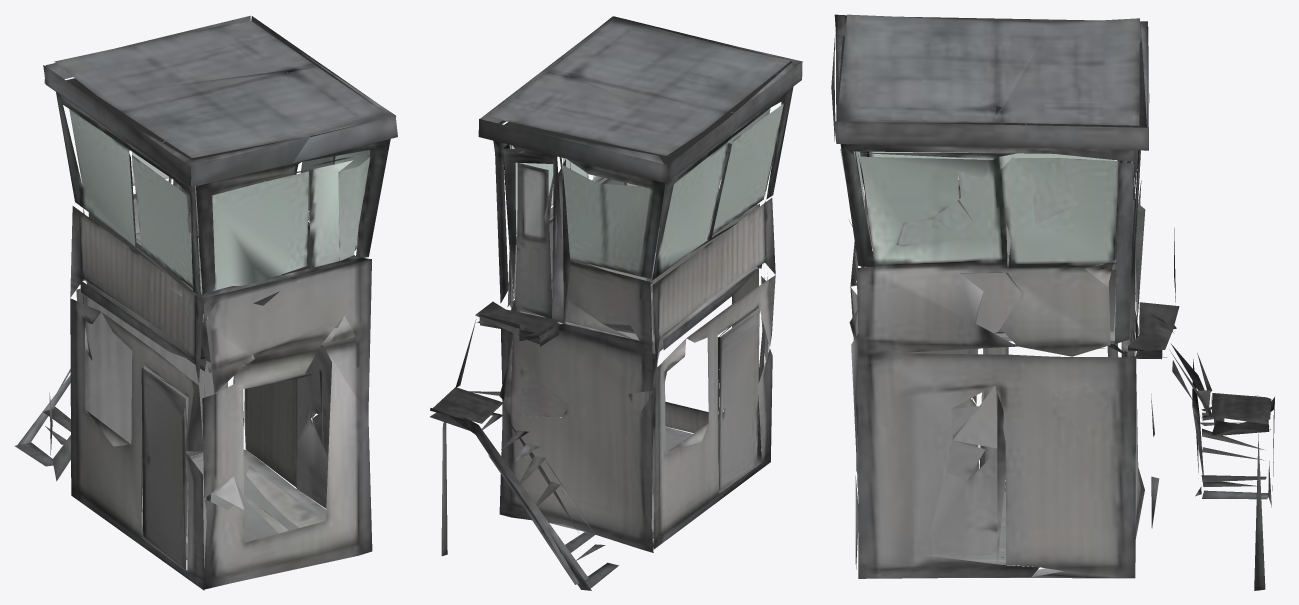
File: kueste_zeitnahme_lo.glb
3 views of the same model, side by side, from view 1: azimuth 30°, elevation 25°; view 2: azimuth 150°, elevation 25°; view 3: azimuth 270°, elevation 25° (orthographic). The views are drawn at different scales.
Visible parts, largest first — view 1: Prop; view 2: Prop; view 3: Prop.
Part boxes in pixels (x1=…): Prop: x1=15, y1=15, x2=397, y2=590; Prop: x1=430, y1=16, x2=802, y2=590; Prop: x1=831, y1=14, x2=1274, y2=590.
Size of the model in its own units: 0.4431 by 0.9146 by 0.7815.
1 material, 1 textured.
